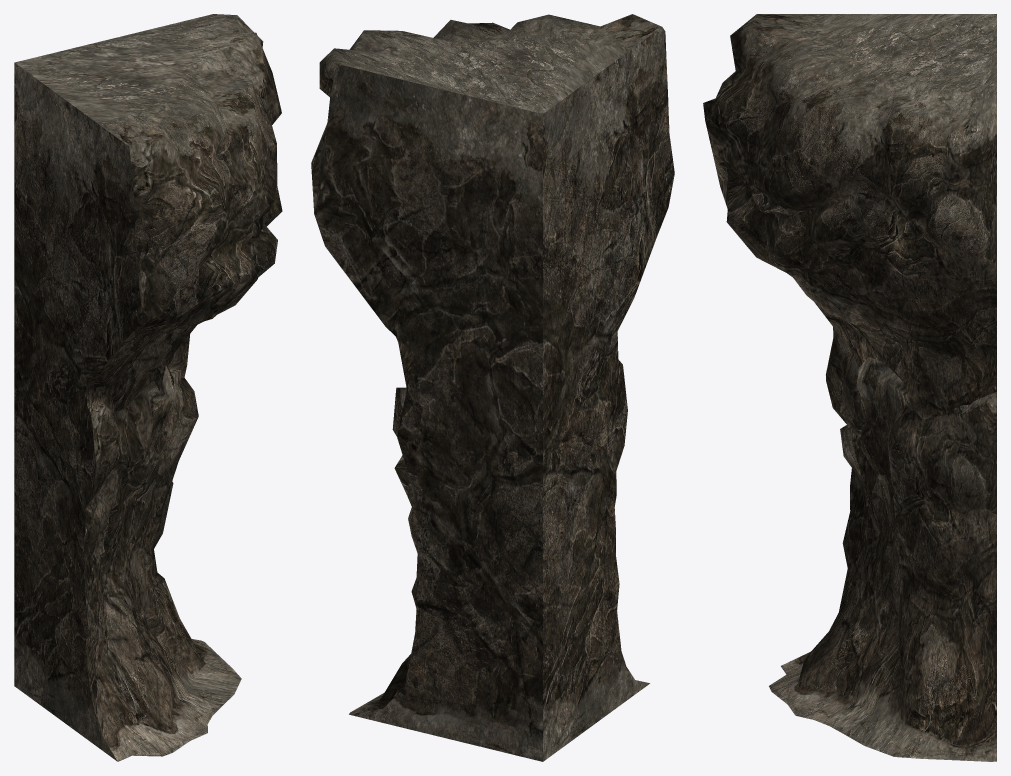
File: SM_Env_Fire_Cliffs_CliffWall_06c.FBX
3 views of the same model, side by side, from view 1: azimuth 30°, elevation 25°; view 2: azimuth 150°, elevation 25°; view 3: azimuth 270°, elevation 25° (orthographic). The views are drawn at different scales.
Parts seen in each view (by area): view 1: SM_Env_Fire_Cliffs_CliffWall_06c; view 2: SM_Env_Fire_Cliffs_CliffWall_06c; view 3: SM_Env_Fire_Cliffs_CliffWall_06c.
Part boxes in pixels (x1,y1,x2,y2): SM_Env_Fire_Cliffs_CliffWall_06c: [14, 14, 282, 761]; SM_Env_Fire_Cliffs_CliffWall_06c: [311, 14, 674, 761]; SM_Env_Fire_Cliffs_CliffWall_06c: [703, 14, 996, 761].
Size of the model in its own units: 747 by 784 by 1935.
